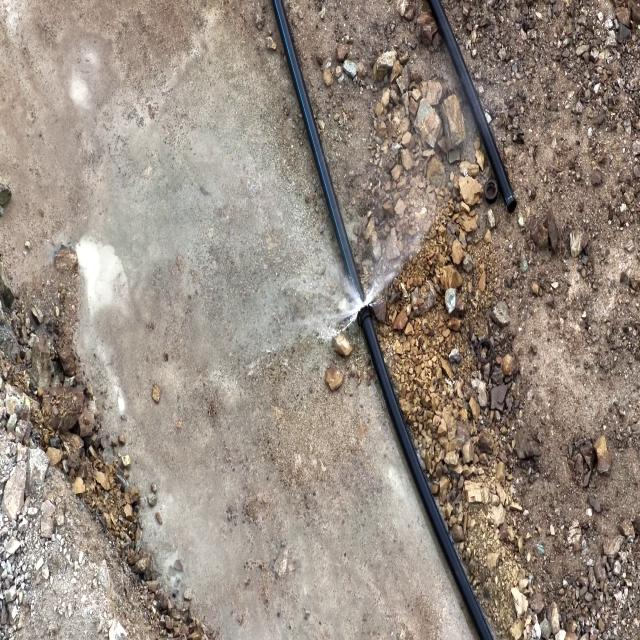leak: (293, 231, 418, 339)
